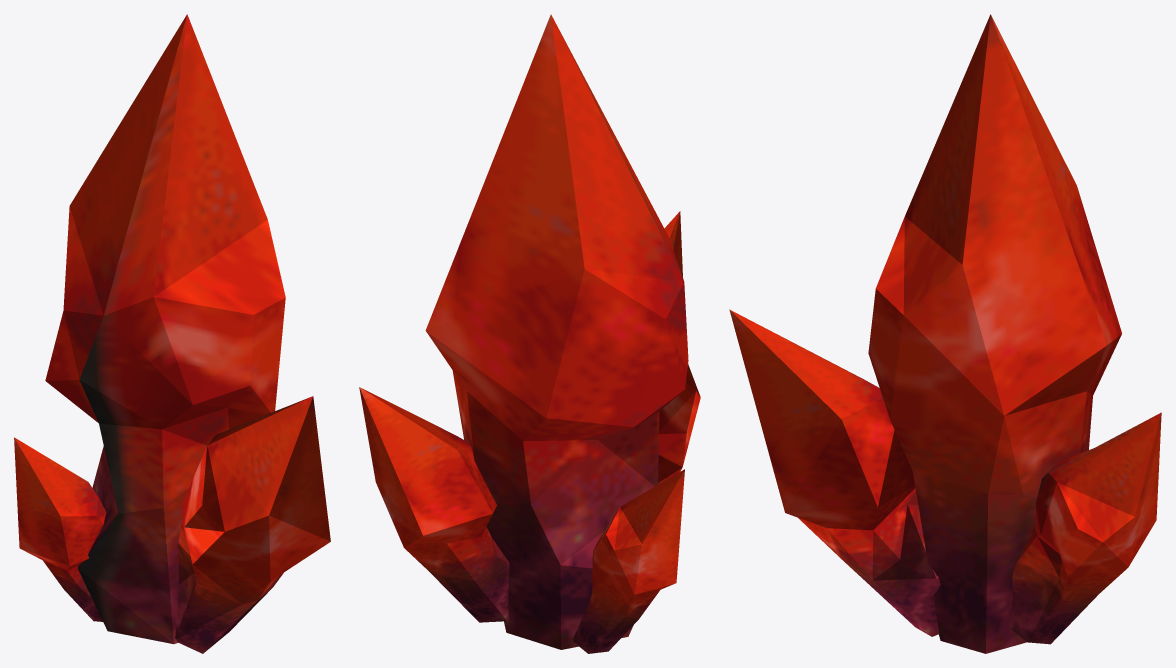
The model's file is 10504_crystal2.FBX.
3 views of the same model, side by side, from view 1: azimuth 30°, elevation 25°; view 2: azimuth 150°, elevation 25°; view 3: azimuth 270°, elevation 25° (orthographic). The views are drawn at different scales.
Visible parts, largest first — view 1: 10504_crystal2; view 2: 10504_crystal2; view 3: 10504_crystal2.
Boxes of the visible parts, box(x1,y1,x2,y2) form: 10504_crystal2: box(14, 14, 330, 653); 10504_crystal2: box(359, 14, 700, 653); 10504_crystal2: box(729, 14, 1161, 653).
Bounding box in the file's own units: 95.88 × 209 × 131.
